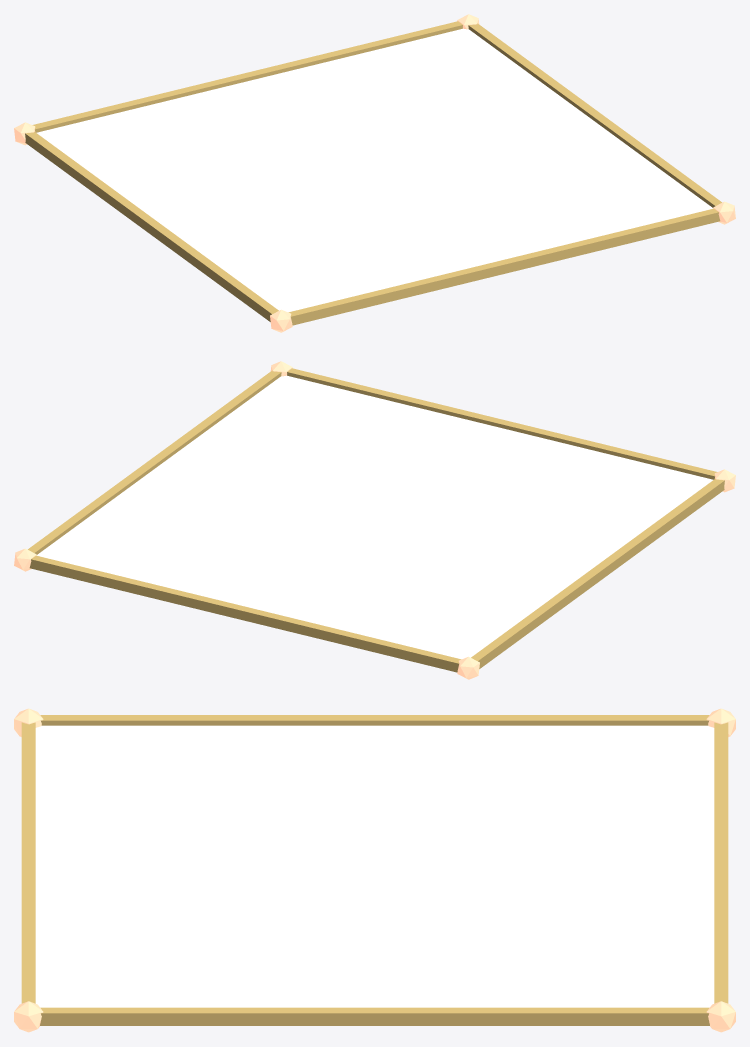
The model's file is Build_AegisScanFrame.fbx.
The picture shows the model from 3 angles, top to bottom: view 1: azimuth 30°, elevation 25°; view 2: azimuth 150°, elevation 25°; view 3: azimuth 270°, elevation 25°; orthographic projection. The views are drawn at different scales.
Parts seen in each view (by area): view 1: AScan_Sheet, AScan_BarX-1, AScan_BarY-1, AScan_BarX1, AScan_BarY1; view 2: AScan_Sheet, AScan_BarX1, AScan_BarY-1, AScan_BarX-1, AScan_BarY1; view 3: AScan_Sheet, AScan_BarY1, AScan_BarY-1, AScan_BarX-1, AScan_BarX1, AScan_Corner0, AScan_Corner2.
Boxes of the visible parts, <box> form: AScan_Sheet: <box>36,28,713,312</box>; AScan_BarX-1: <box>288,208,720,325</box>; AScan_BarY-1: <box>25,132,278,321</box>; AScan_BarX1: <box>32,21,462,132</box>; AScan_BarY1: <box>468,23,721,207</box>; AScan_Sheet: <box>36,375,713,659</box>; AScan_BarX1: <box>29,555,461,672</box>; AScan_BarY-1: <box>471,479,724,668</box>; AScan_BarX-1: <box>287,368,717,479</box>; AScan_BarY1: <box>28,370,281,554</box>; AScan_Sheet: <box>35,725,714,1007</box>; AScan_BarY1: <box>40,1007,709,1025</box>; AScan_BarY-1: <box>40,715,709,725</box>; AScan_BarX-1: <box>21,722,35,1003</box>; AScan_BarX1: <box>714,722,728,1003</box>; AScan_Corner0: <box>706,1001,735,1032</box>; AScan_Corner2: <box>14,1001,43,1032</box>.
Bounding box in the file's own units: 1.04 × 0.05 × 1.04.
